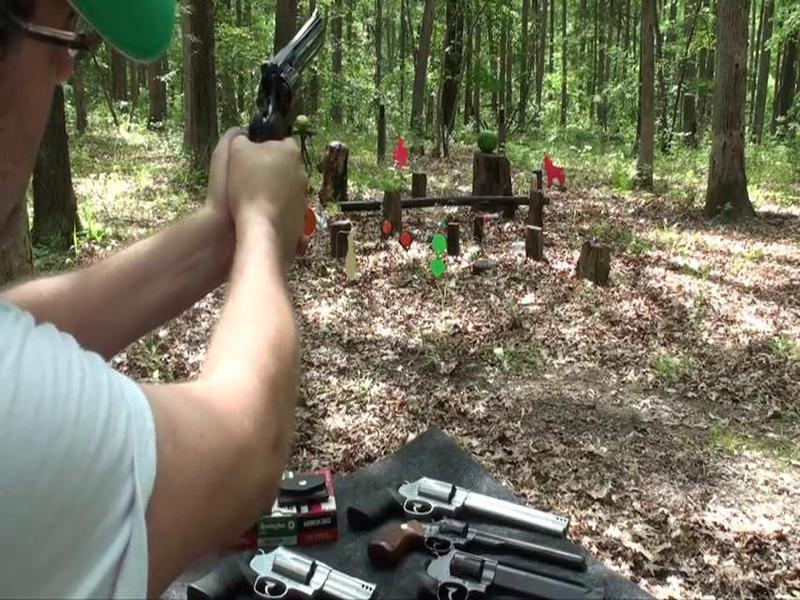Revolver: (231, 8, 350, 151)
